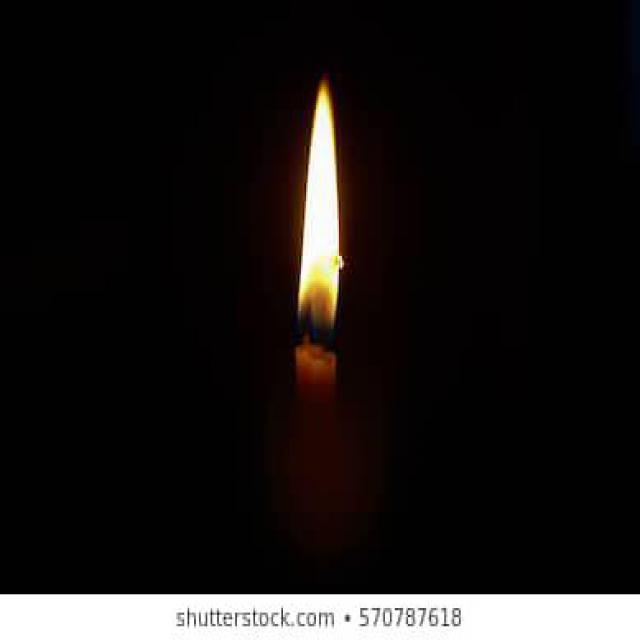Fire: (297, 75, 340, 336)
